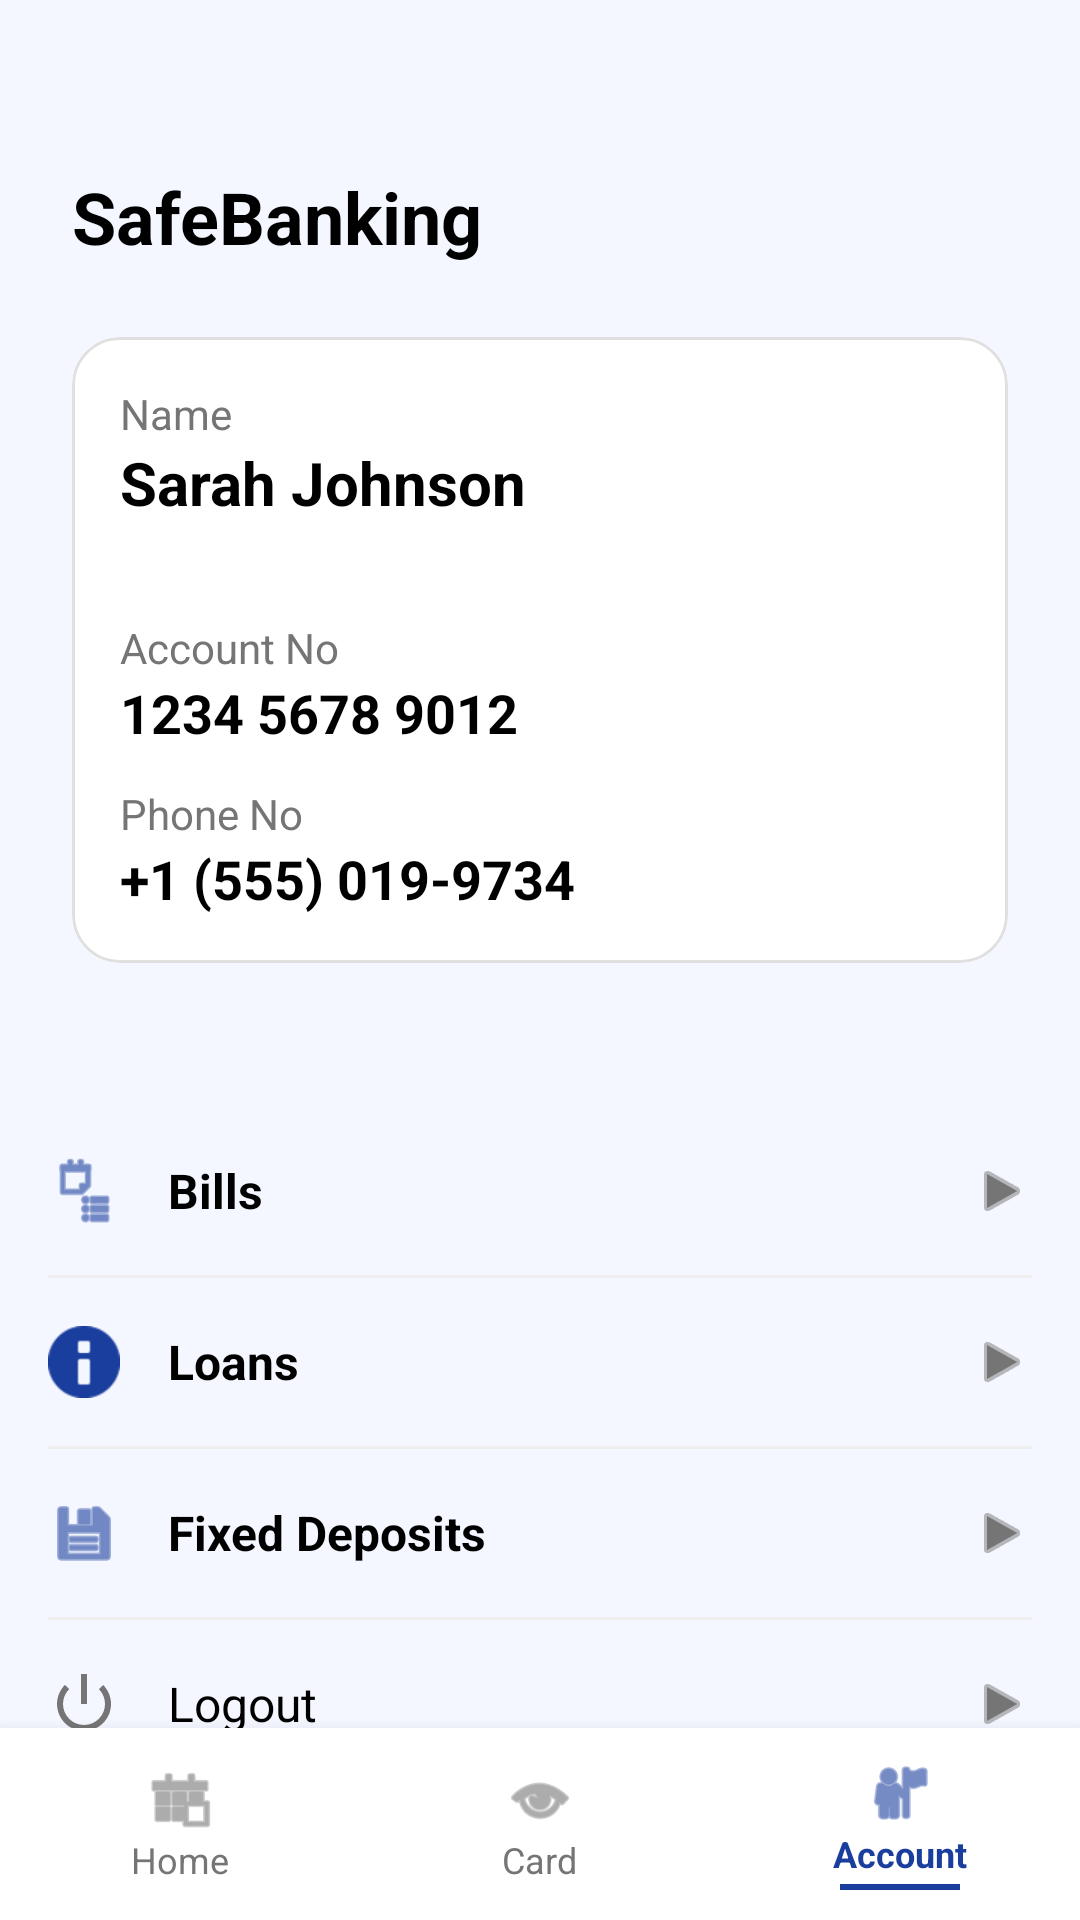

Named icons in this screenshot (1080px×1920px) and their bounding boxes, (x1, y1, x2, y2):
agenda: (59, 1159, 110, 1223)
info: (48, 1326, 120, 1398)
lock power off: (57, 1674, 111, 1728)
myplaces: (874, 1766, 928, 1820)
play: (984, 1171, 1020, 1211), (984, 1342, 1020, 1382), (984, 1513, 1020, 1553), (984, 1684, 1020, 1724)
save: (57, 1506, 111, 1561)
today: (151, 1773, 210, 1827)
view: (511, 1783, 569, 1819)
